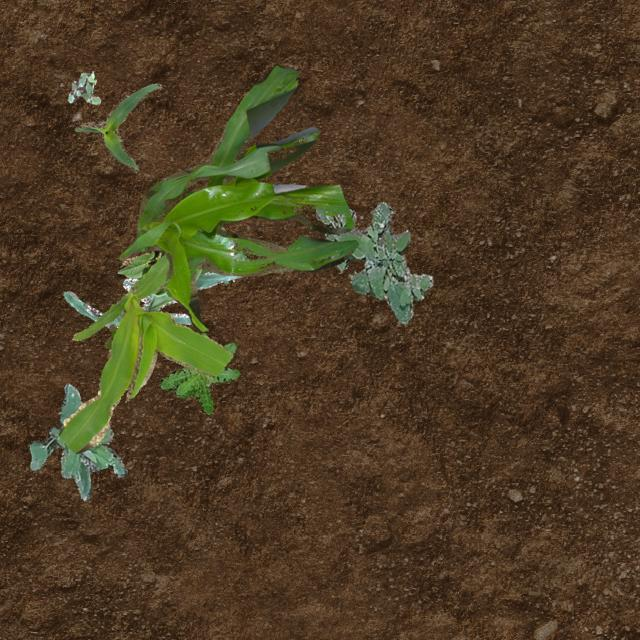crop: (118, 62, 358, 330), (58, 252, 232, 452), (62, 232, 248, 328), (74, 82, 160, 172), (115, 248, 163, 278)
weed: (314, 200, 432, 322), (28, 382, 126, 498), (158, 342, 238, 414), (66, 71, 100, 103), (104, 323, 116, 348)
